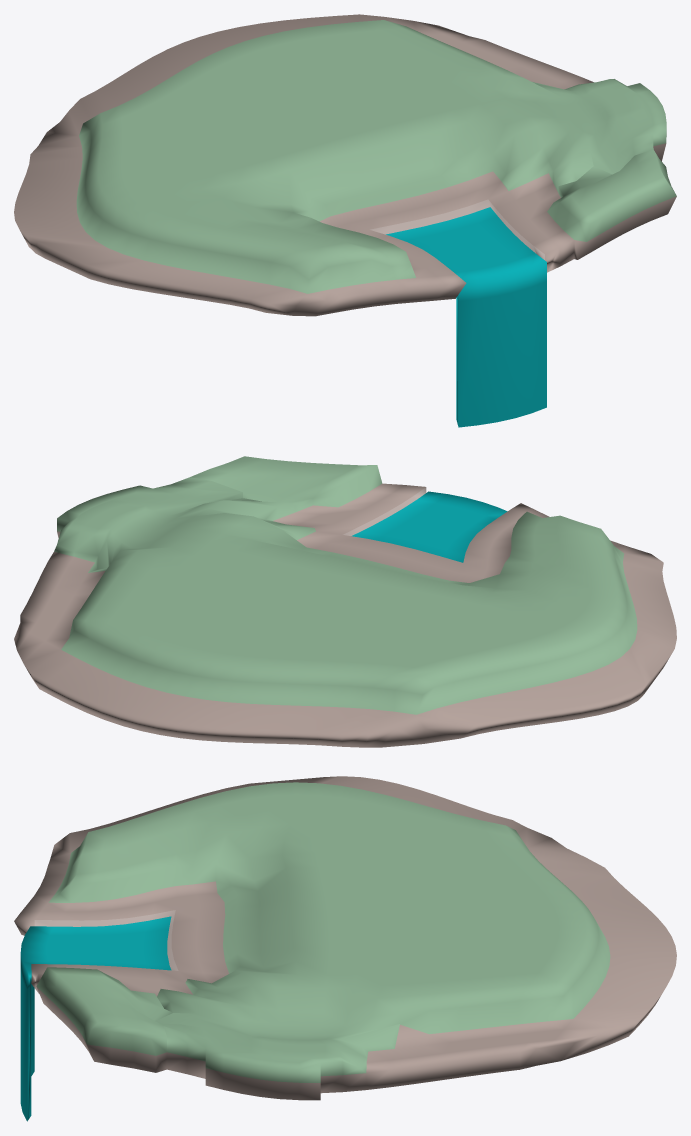
Rendered from Msh_Diorama1_1_Env.fbx.
3 views of the same model, one above another, from view 1: azimuth 30°, elevation 25°; view 2: azimuth 150°, elevation 25°; view 3: azimuth 270°, elevation 25° (orthographic). The views are drawn at different scales.
Parts seen in each view (by area): view 1: Msh_Diorama_Env; view 2: Msh_Diorama_Env; view 3: Msh_Diorama_Env.
Part boxes in pixels (x1,y1,x2,y2): Msh_Diorama_Env: (14,14,676,427); Msh_Diorama_Env: (14,456,676,747); Msh_Diorama_Env: (14,776,676,1121).
Bounding box in the file's own units: 32.99 × 30.15 × 9.35.
